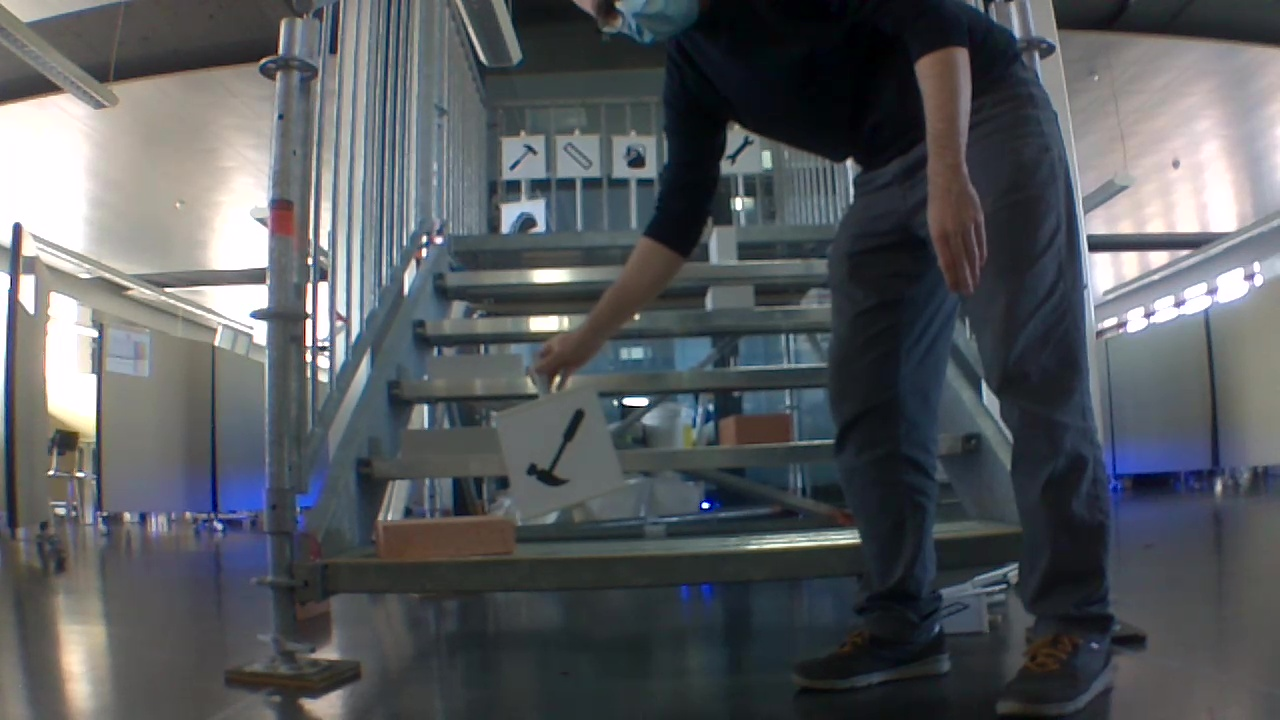brick: (378, 516, 510, 561), (404, 425, 497, 461), (426, 356, 525, 379), (716, 413, 792, 441), (706, 286, 753, 308), (710, 228, 736, 262)
bucket: (619, 140, 649, 173)
hammer: (512, 402, 588, 489), (502, 140, 540, 175)
ruler: (560, 140, 597, 171)
taco: (502, 209, 541, 233)
wrench: (720, 131, 757, 169)
